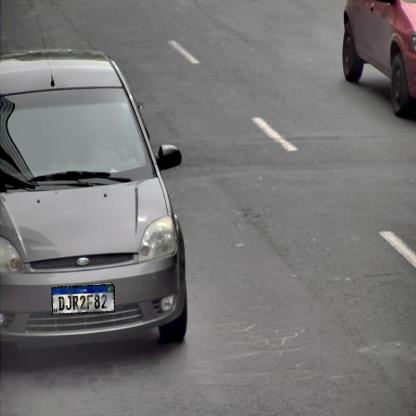PlacaM: (51, 284, 115, 315)
